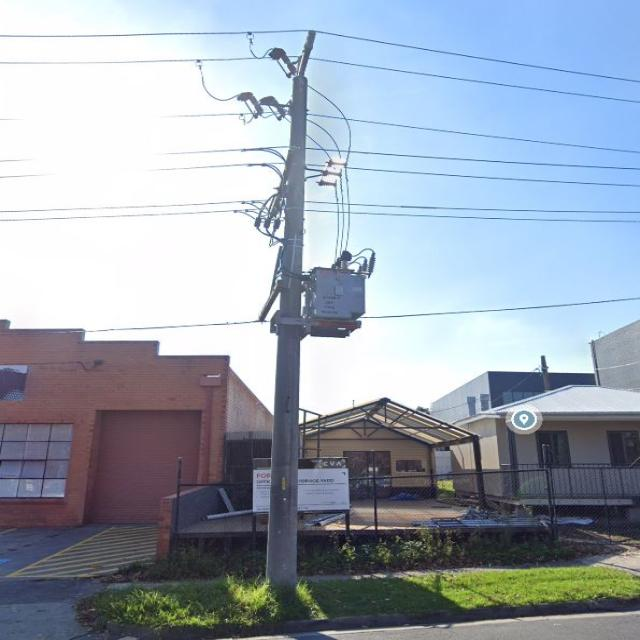HV-transmission: (200, 28, 320, 124)
crossarm: (268, 148, 294, 219), (256, 278, 285, 322), (293, 28, 317, 76)
timber-pole: (266, 74, 309, 588)
transformer: (306, 254, 374, 337)
